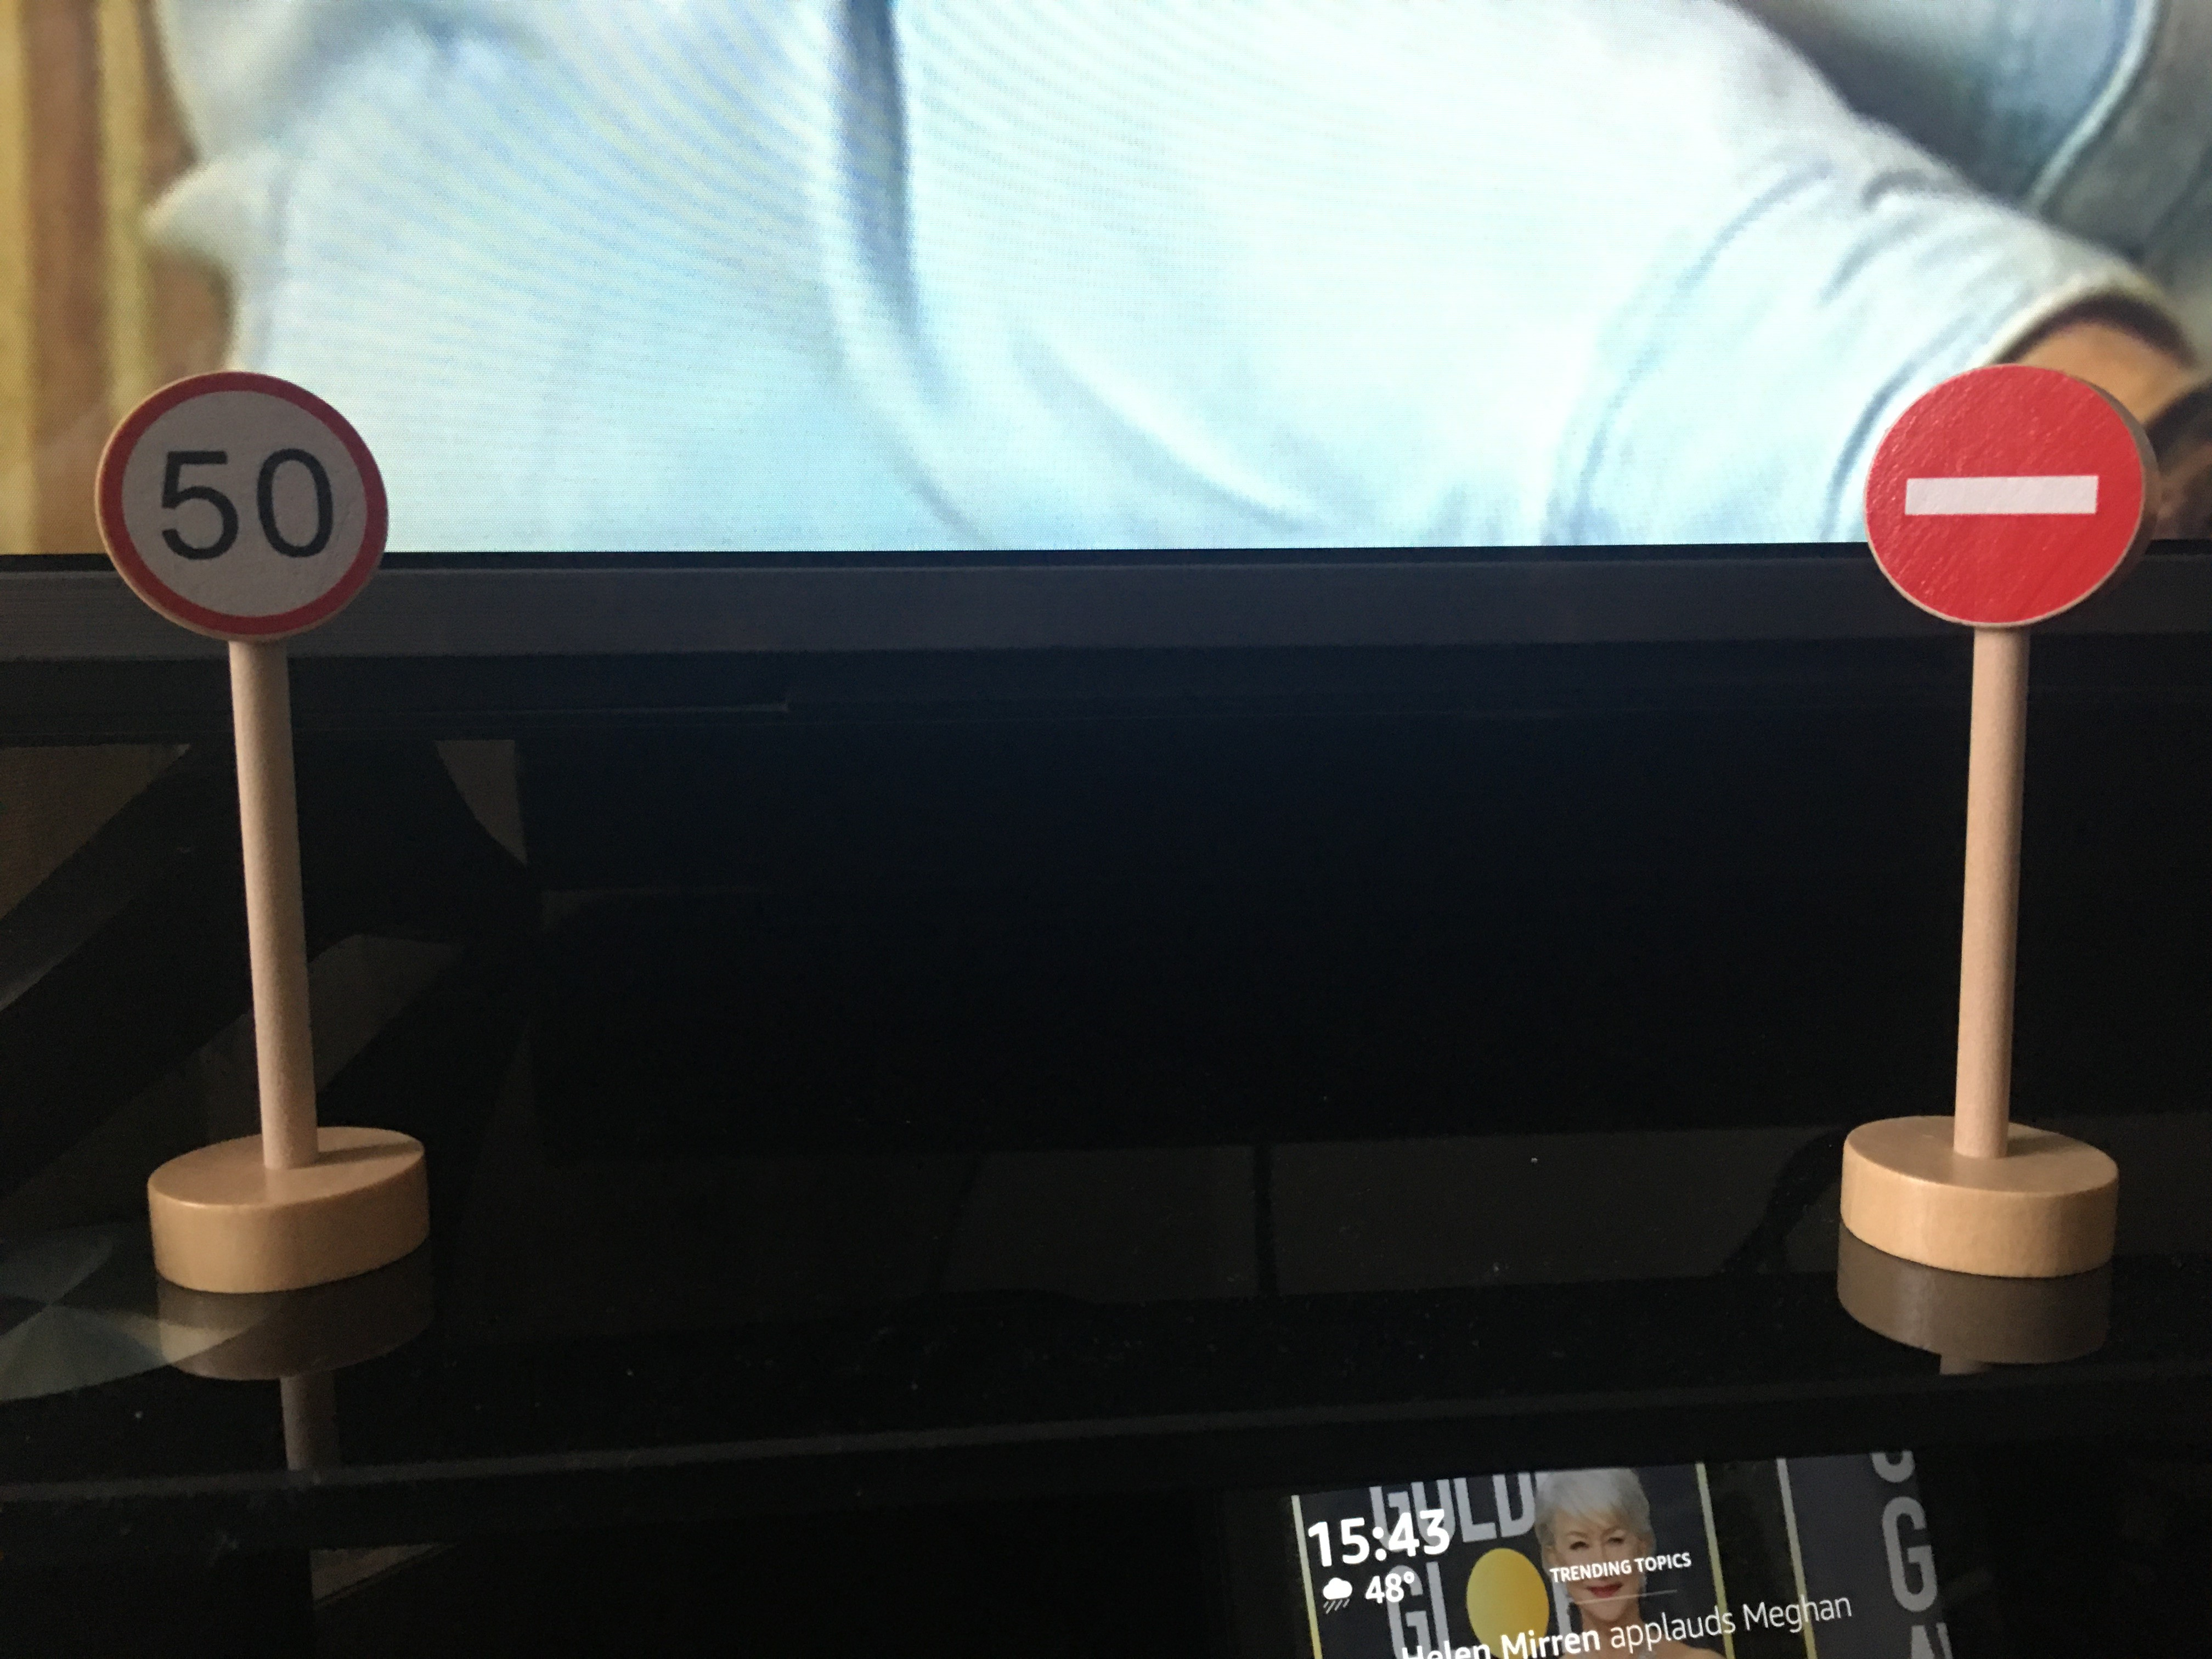Traffic_Sign_50: (98, 369, 390, 638)
Traffic_Sign_No_Entry: (1867, 362, 2149, 629)
